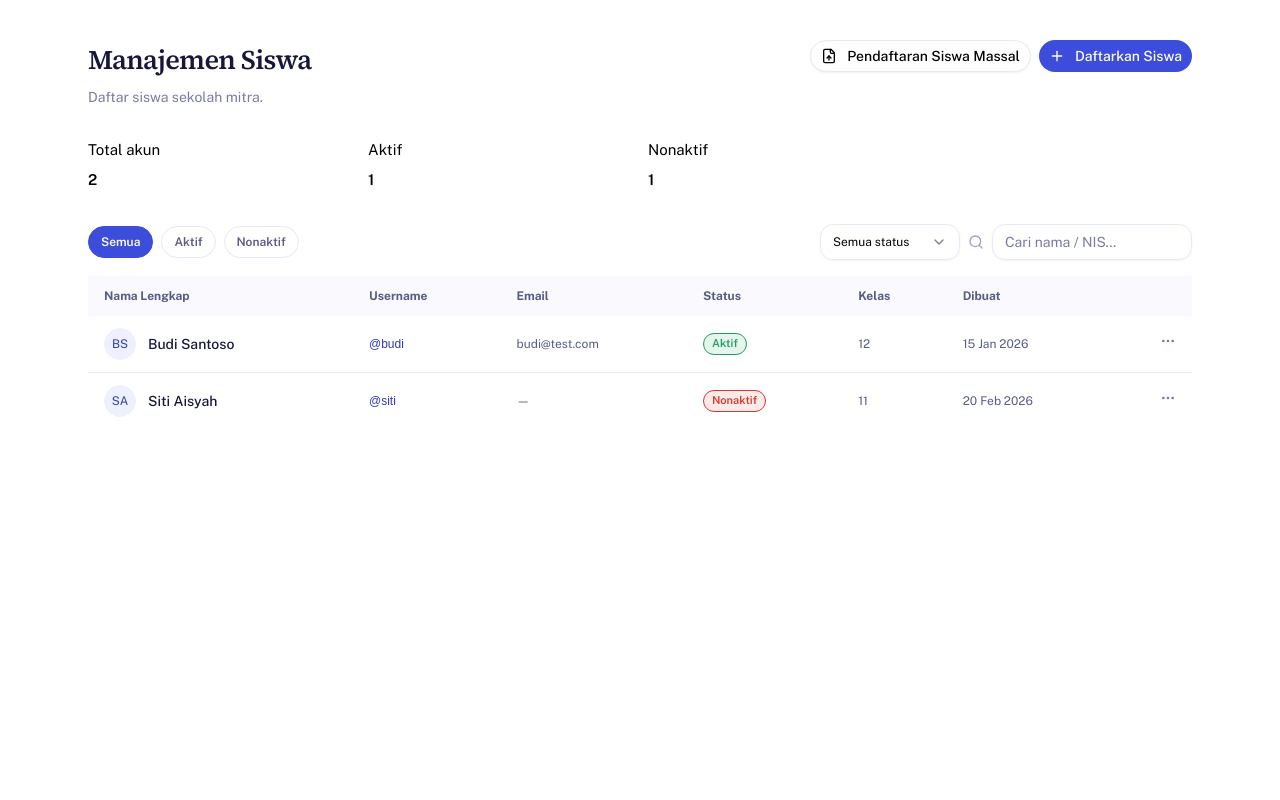
Test: SchoolStudentsPage › opens register dialog and shows credential panel on success
expect the text "Budi Santoso" is shown: met, box [148,334,234,354]
Click the button "Daftarkan Siswa" at [1115, 56], box [1039,40,1192,72]
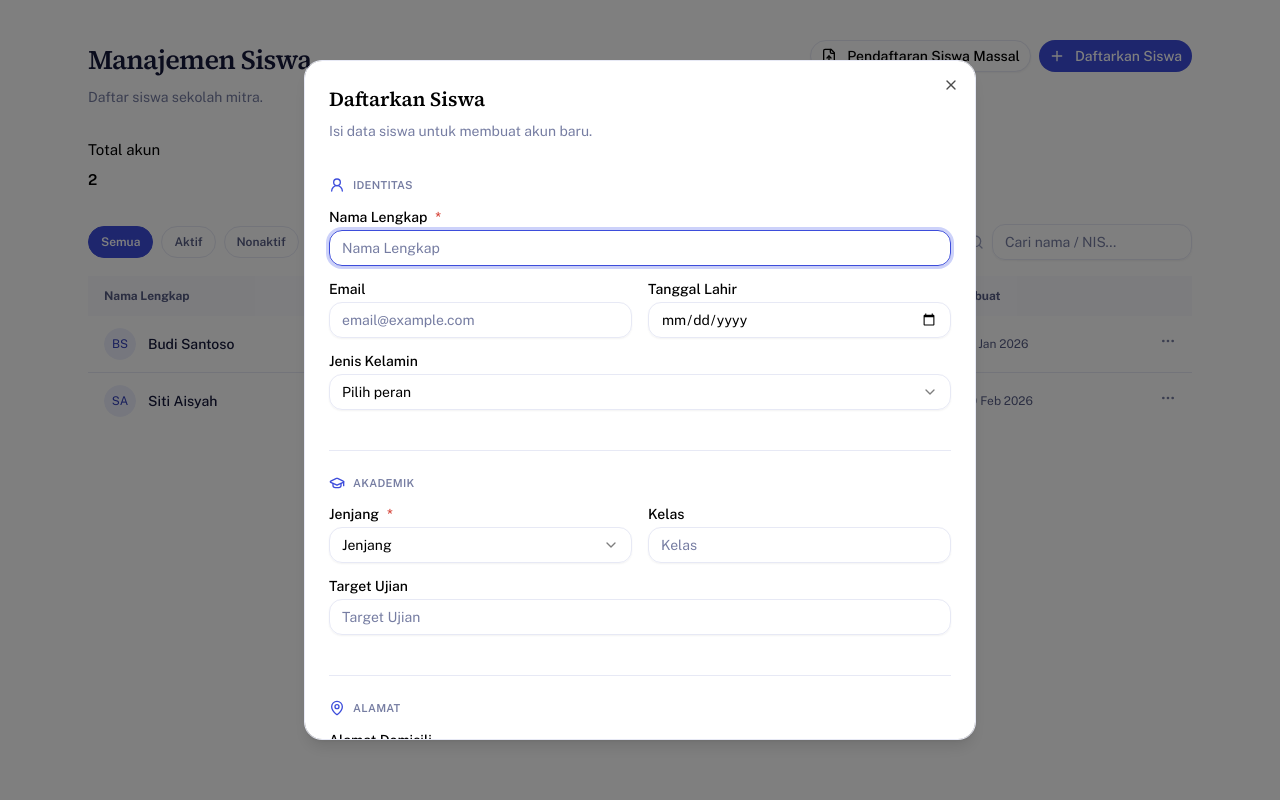
Type "Dewi Lestari" into the field with placeholder "Nama Lengkap" at [640, 248], box [329,230,951,266]
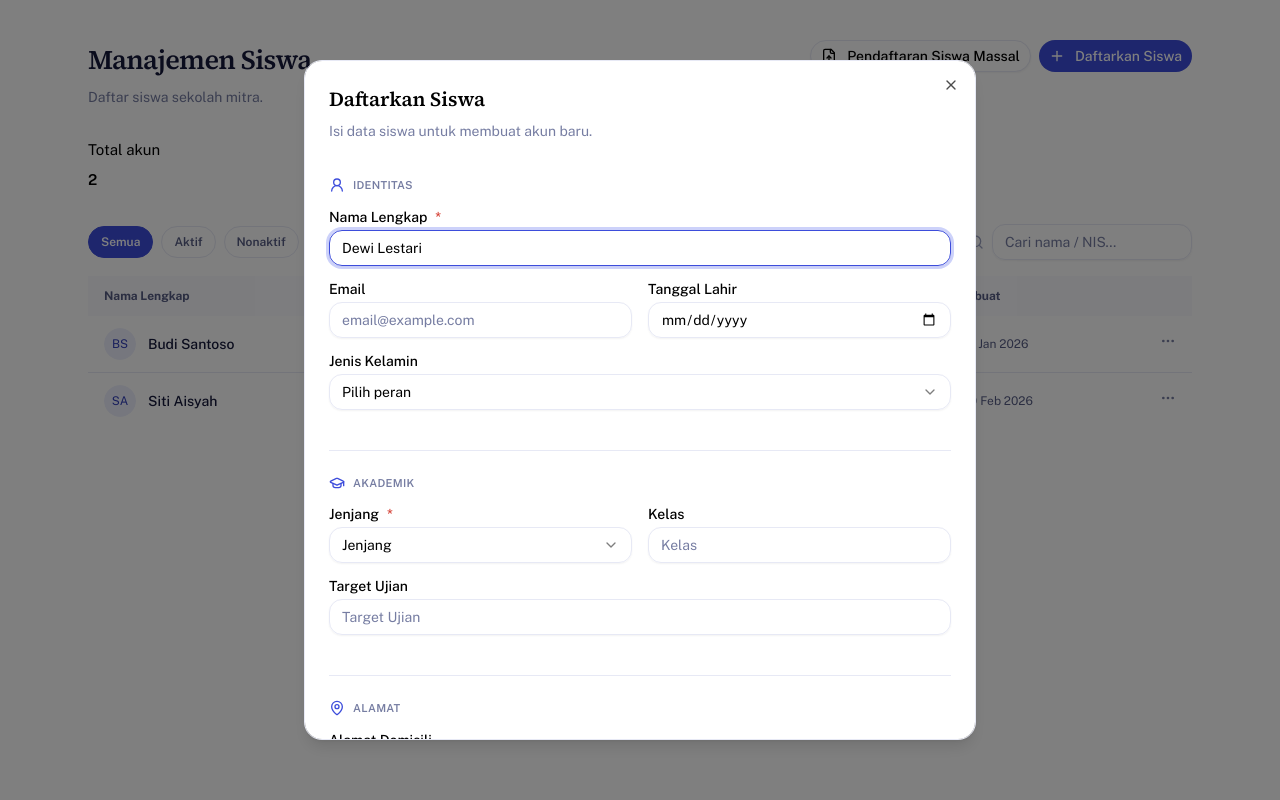
Click the dropdown labelled "Jenjang" at [367, 545], box [329,527,632,563]
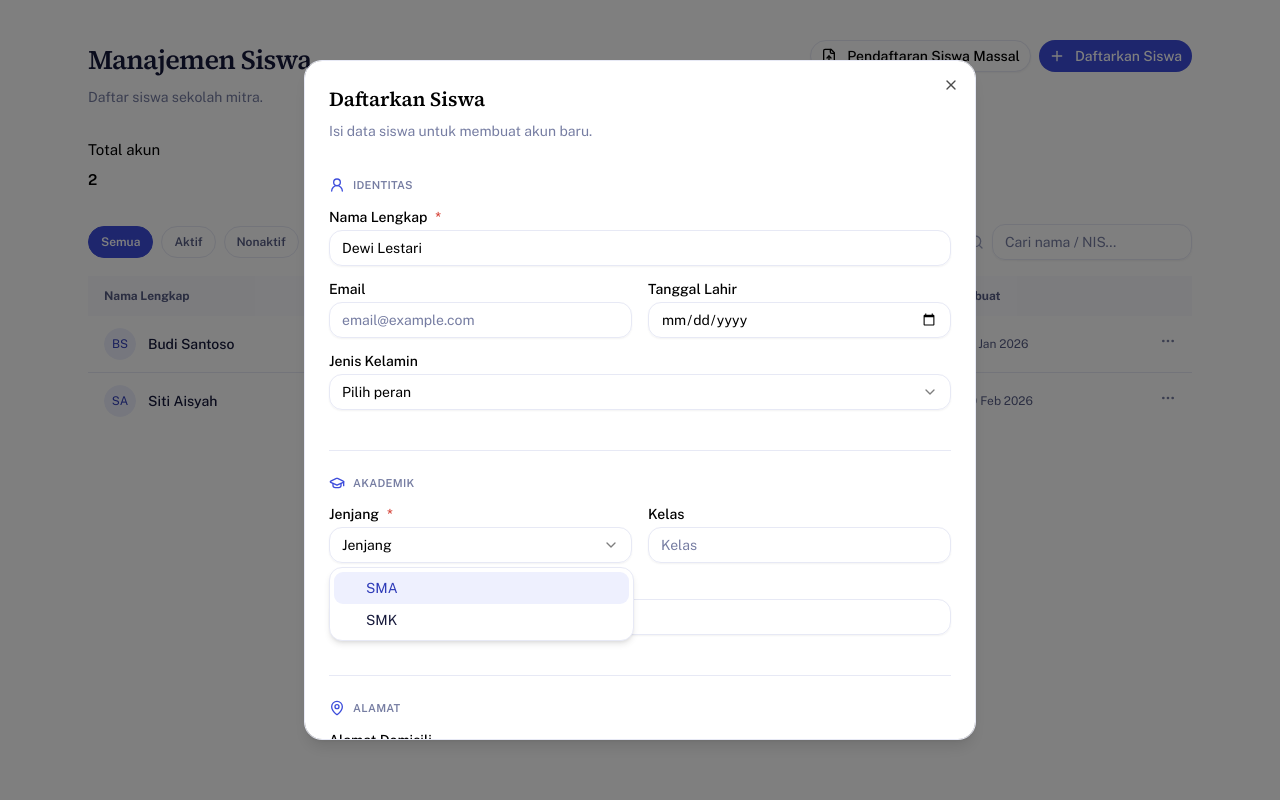
Click the option "SMA" at [382, 588], box [334,572,629,604]
(page scrolled)
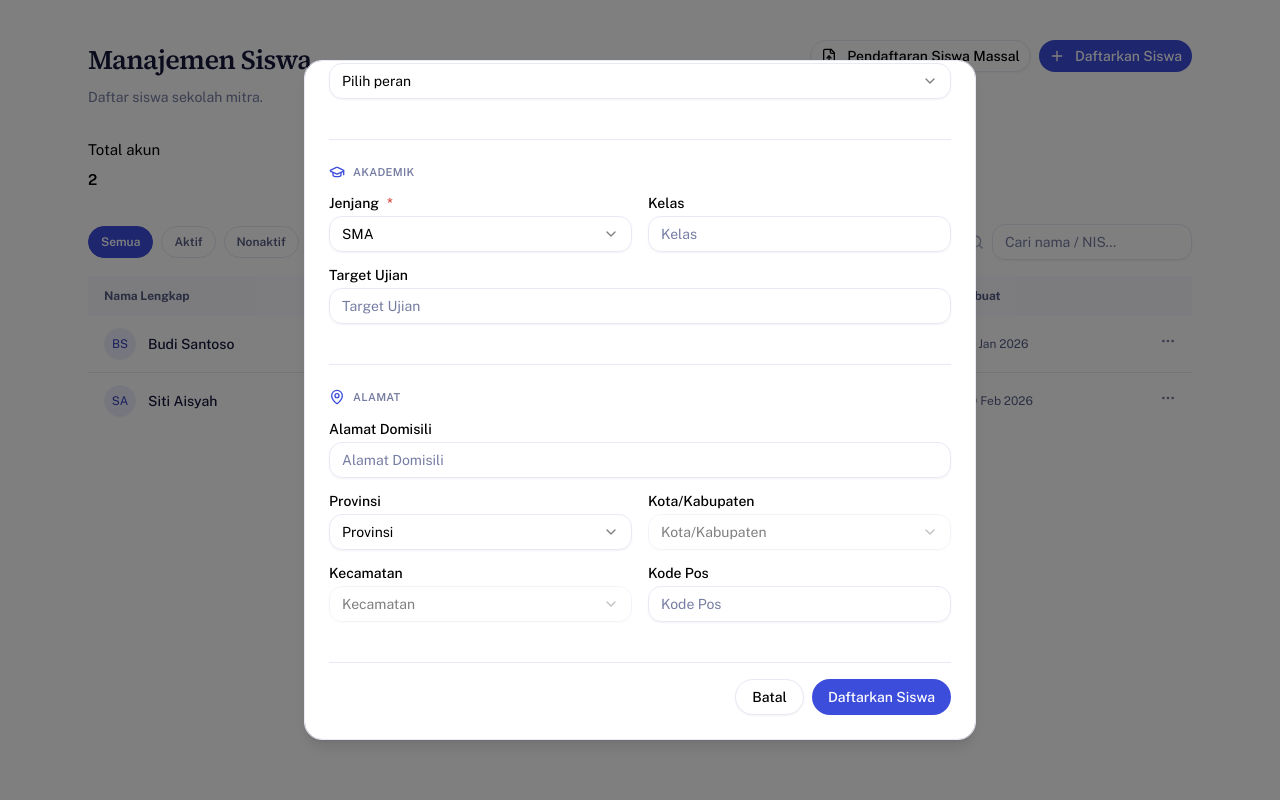
Click the submit button inside the dialog
Click the button "Daftarkan Siswa" at [881, 696], box [812,678,951,714]
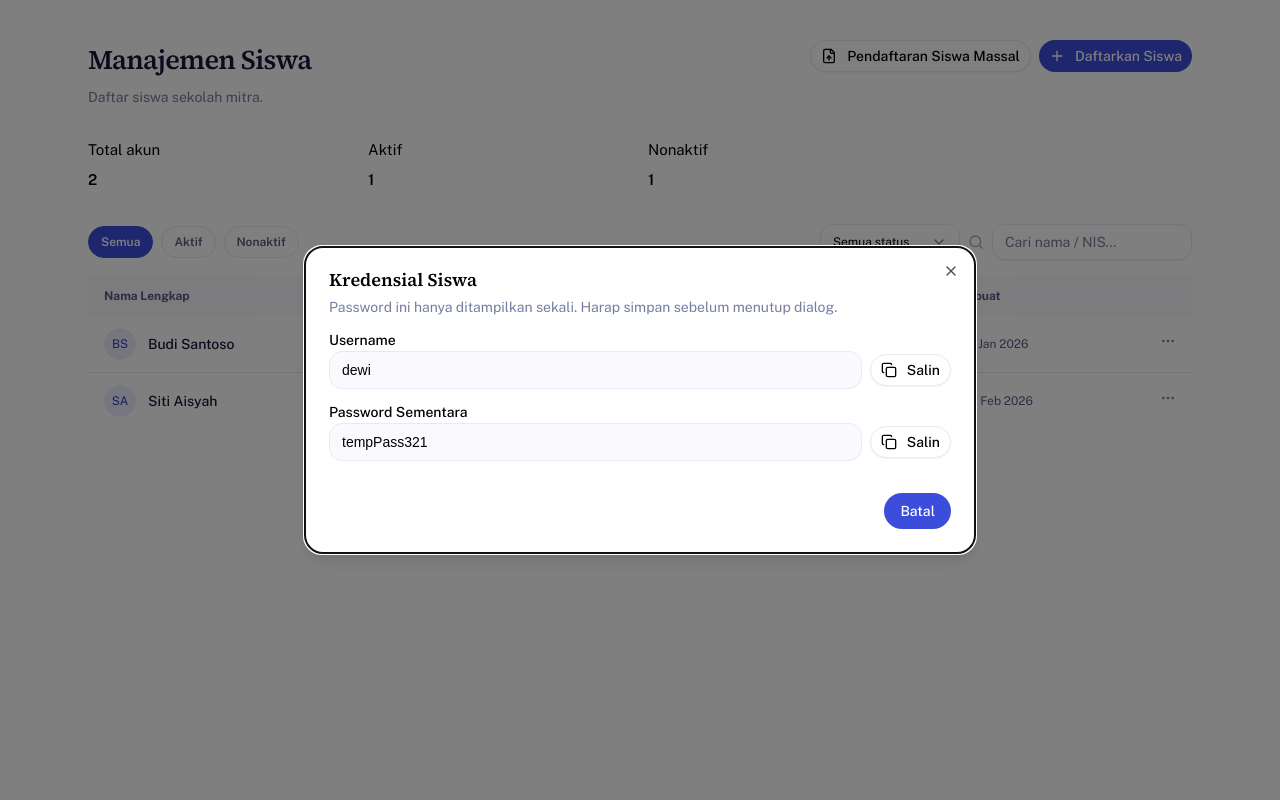
expect the heading "Kredensial Siswa" is shown: met, box [329,267,477,292]
expect the text "dewi" is shown: met, box [329,351,862,389]
expect the text "tempPass321" is shown: met, box [329,423,862,461]
